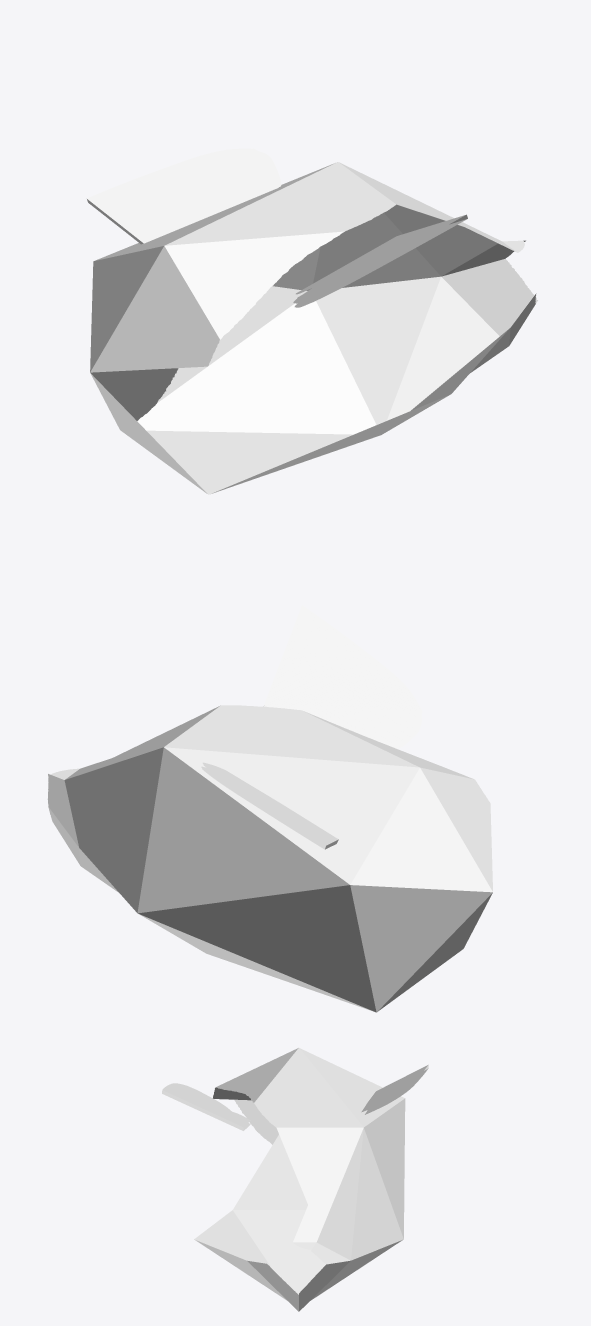
The model's file is Bee.fbx.
The picture shows the model from 3 angles, top to bottom: view 1: azimuth 30°, elevation 25°; view 2: azimuth 150°, elevation 25°; view 3: azimuth 270°, elevation 25°; orthographic projection. The views are drawn at different scales.
Parts seen in each view (by area): view 1: Icosphere; view 2: Icosphere; view 3: Icosphere.
Part boxes in pixels (left/top/right/bottom): Icosphere: left=87, top=148, right=537, bottom=494; Icosphere: left=47, top=605, right=492, bottom=1012; Icosphere: left=162, top=1048, right=428, bottom=1311.
Bounding box in the file's own units: 341 × 209 × 456.
